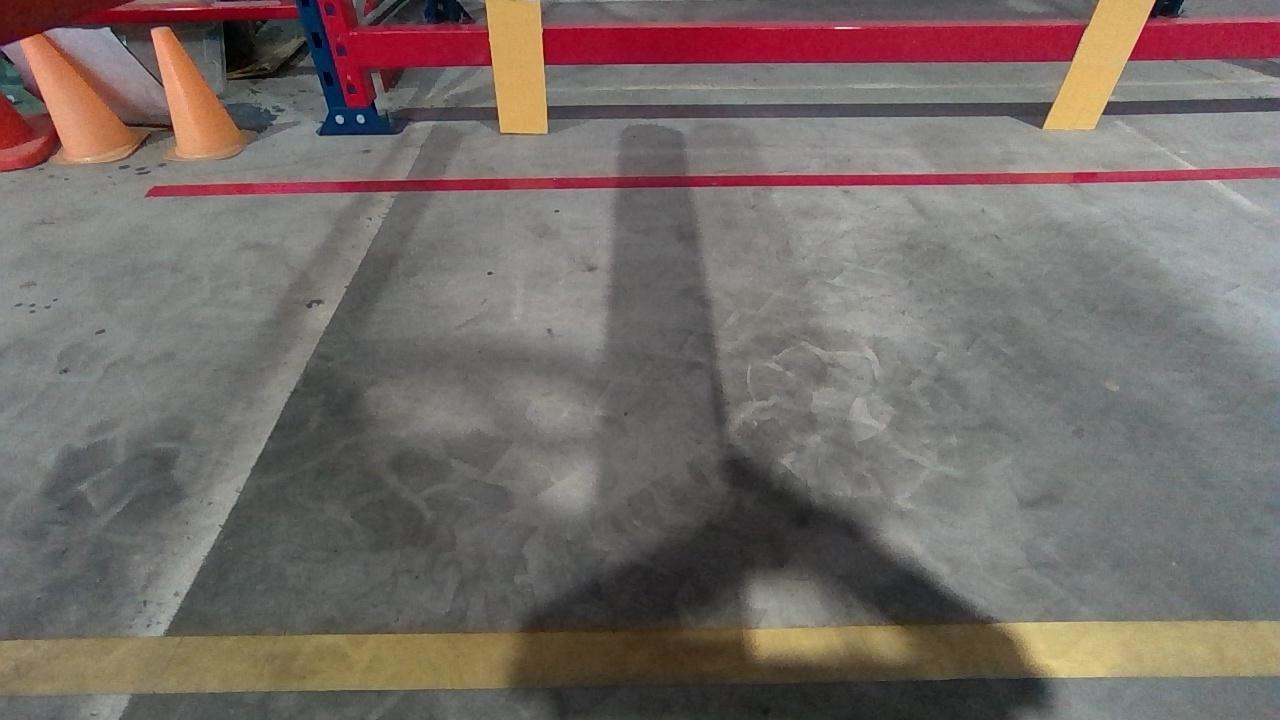h_rack: (350, 20, 1280, 65)
orange_strip: (1041, 0, 1147, 130), (487, 1, 546, 130)
red_line: (142, 168, 1279, 194)
yellow_line: (4, 619, 1278, 683)
